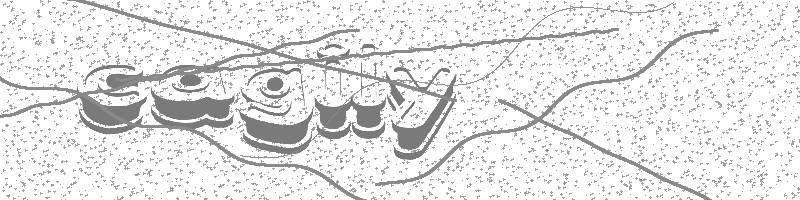a: (150, 63, 236, 130)
c: (77, 64, 146, 135)
g: (239, 67, 314, 155)
i: (314, 42, 351, 140)
l: (354, 42, 387, 140)
y: (387, 66, 457, 160)
